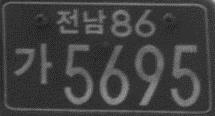5: (170, 43, 201, 108), (63, 41, 93, 105)
6: (98, 43, 130, 105), (133, 8, 156, 37)
8: (109, 8, 132, 37)
9: (133, 42, 166, 108)
가: (13, 42, 52, 85)
전남_O: (56, 8, 106, 35)
